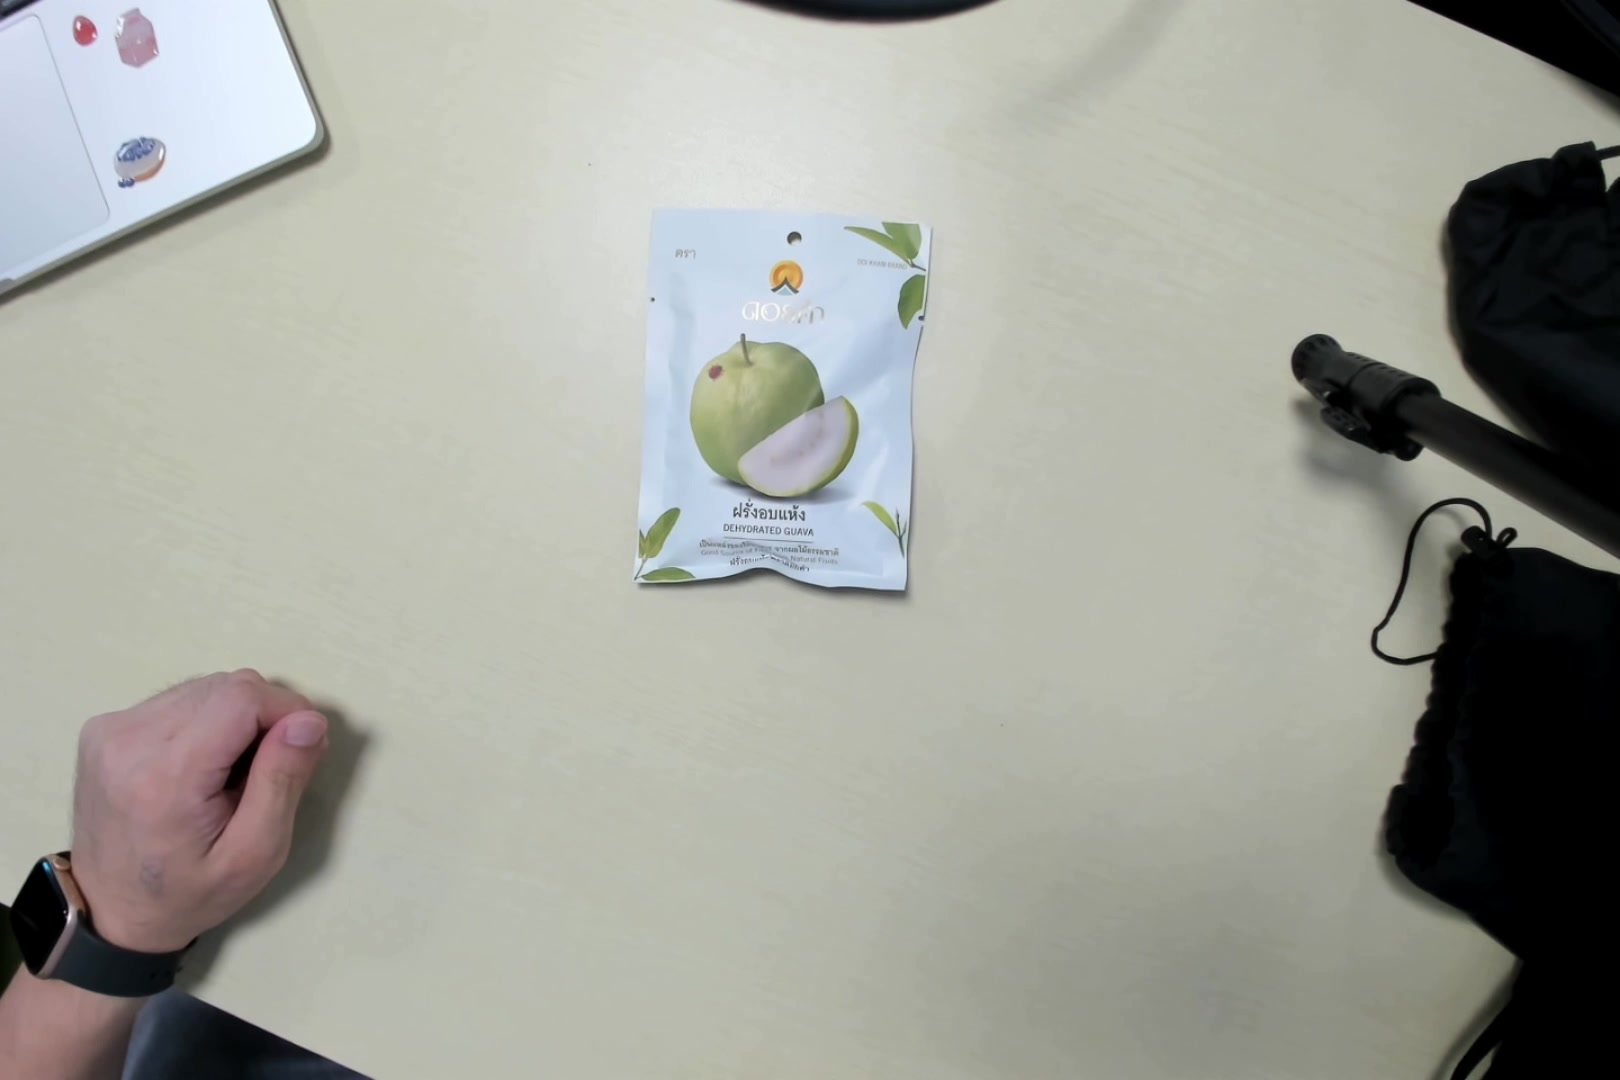DriedFruits_0-99g_Halal_NonHealthy: (636, 204, 915, 607)
